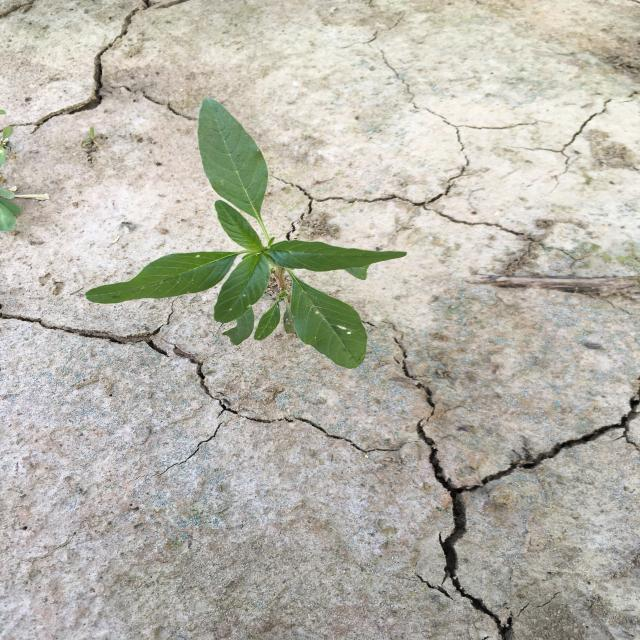Waterhemp: (82, 97, 410, 371)
